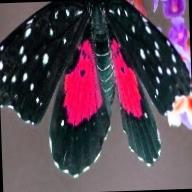butterfly: (0, 0, 192, 177)
